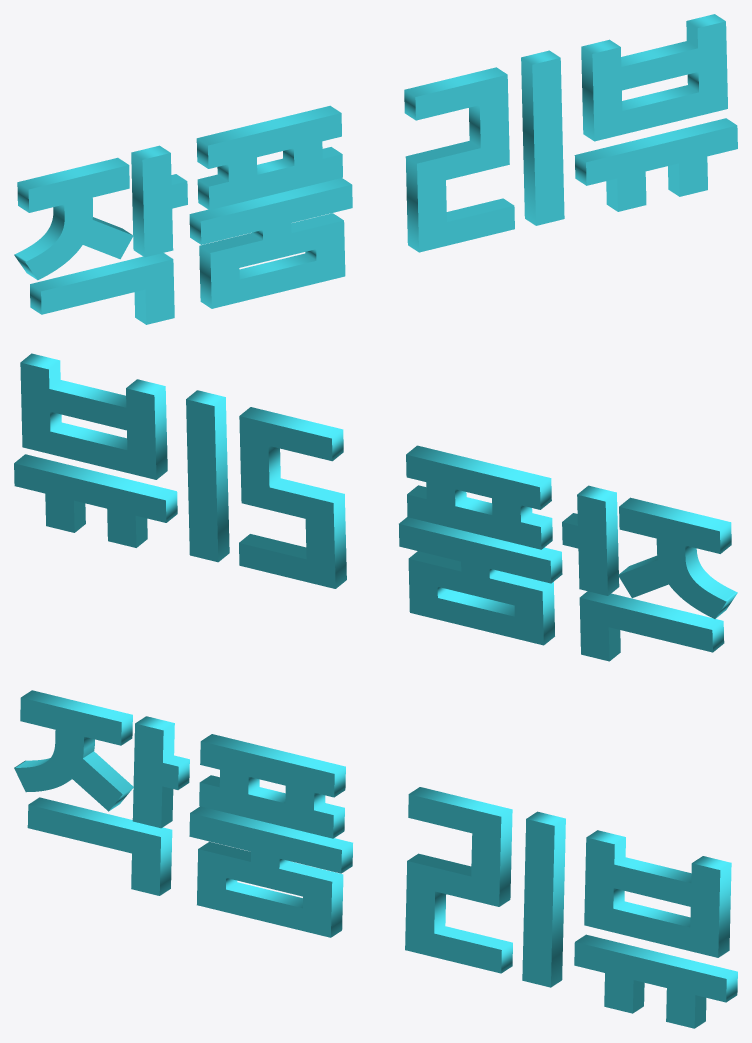
The picture shows the model from 3 angles, top to bottom: view 1: azimuth 30°, elevation 25°; view 2: azimuth 150°, elevation 25°; view 3: azimuth 330°, elevation 25°; orthographic projection.
Parts seen in each view (by area): view 1: 텍스트.001; view 2: 텍스트.001; view 3: 텍스트.001.
Part boxes in pixels (x1,y1,x2,y2): 텍스트.001: (14,14,737,324); 텍스트.001: (14,353,737,661); 텍스트.001: (14,690,737,1028).
Size of the model in its own units: 3.29 by 0.7306 by 0.1216.
